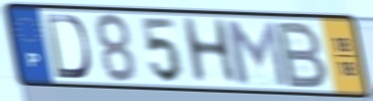5: (136, 15, 188, 85)
8: (93, 11, 140, 86)
B: (274, 20, 331, 91)
D: (44, 12, 93, 81)
H: (178, 16, 241, 87)
M: (221, 18, 291, 89)
